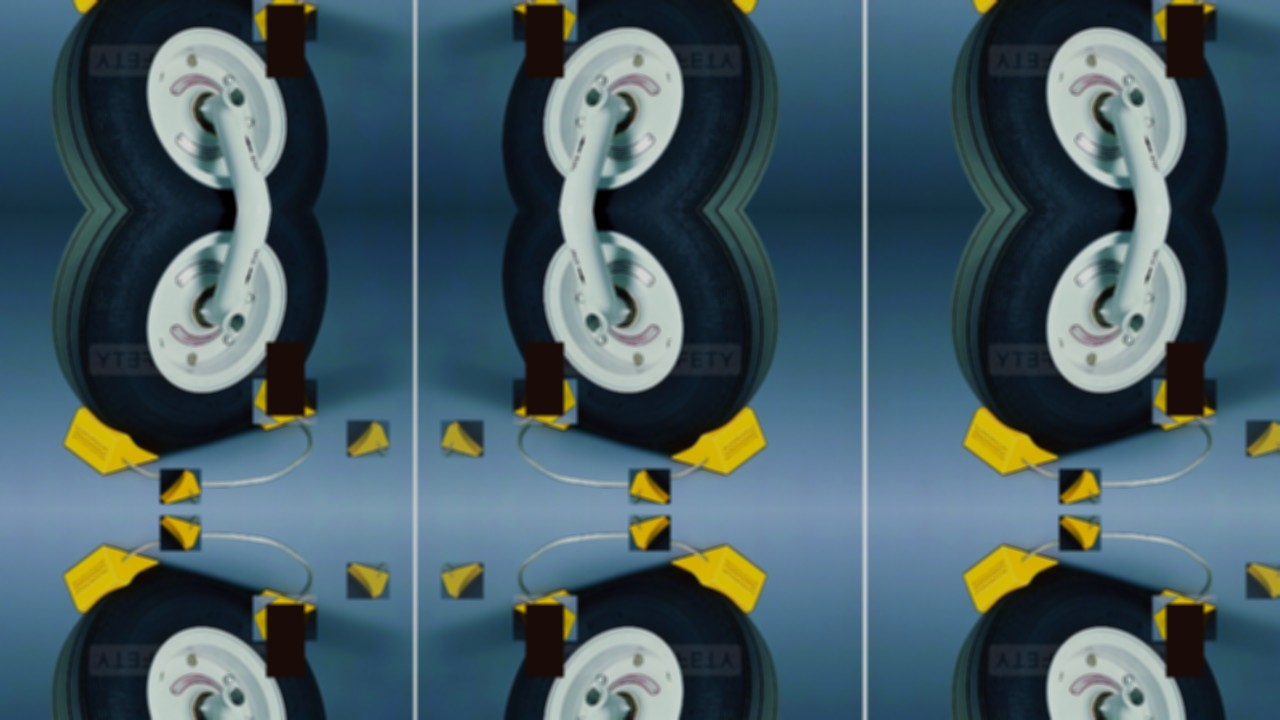chock: (62, 406, 160, 476), (670, 406, 768, 476), (962, 406, 1060, 476), (62, 544, 160, 614), (670, 544, 768, 614), (962, 544, 1060, 614), (256, 589, 314, 639), (516, 589, 574, 639), (1156, 589, 1214, 639), (253, 379, 317, 424), (513, 379, 577, 424), (1153, 379, 1217, 424), (253, 596, 317, 641), (513, 596, 577, 641), (1153, 596, 1217, 641), (256, 381, 314, 430), (516, 381, 574, 430), (1156, 381, 1214, 430), (253, 0, 317, 41), (513, 0, 577, 41), (1153, 0, 1217, 41), (256, 0, 314, 39), (516, 0, 574, 39), (1156, 0, 1214, 39), (346, 563, 389, 600), (441, 563, 483, 600), (346, 421, 389, 457), (441, 421, 483, 457), (159, 469, 201, 504), (1059, 469, 1101, 504), (159, 516, 201, 551), (1059, 516, 1101, 551), (629, 469, 670, 504), (629, 516, 670, 551), (62, 0, 160, 14), (670, 0, 768, 14), (962, 0, 1060, 14), (1246, 563, 1280, 600), (1246, 421, 1280, 457)
wheel: (49, 210, 331, 451), (499, 210, 781, 451), (949, 210, 1231, 451), (49, 0, 331, 210), (499, 0, 781, 210), (949, 0, 1231, 210), (49, 569, 331, 720), (499, 569, 781, 720), (949, 569, 1231, 720)
